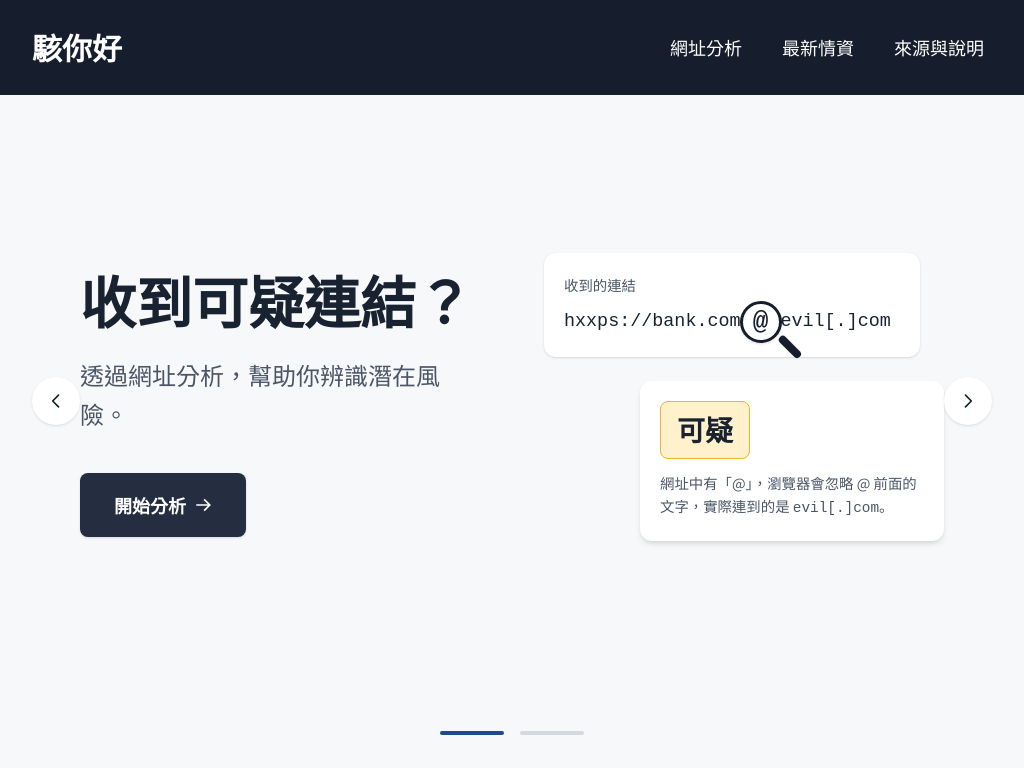
首頁主視覺輪播 › 按「下一張」換到第二張，「了解情資」前往最新情資頁
Later steps or results of the test are not shown.
Click the button named "下一張": (968, 401) [944,377,992,425]
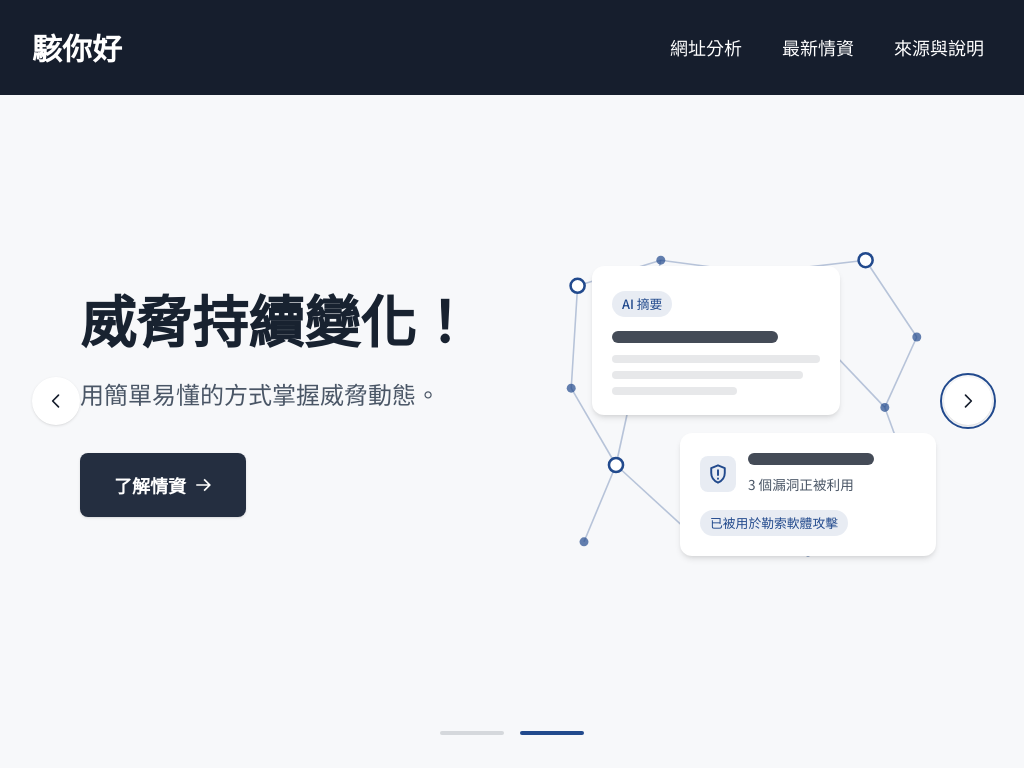
Result: the text "威脅持續變化！" is shown at [80,284,480,354]
Result: the text "用簡單易懂的方式掌握威脅動態。" is shown at [80,374,480,413]
